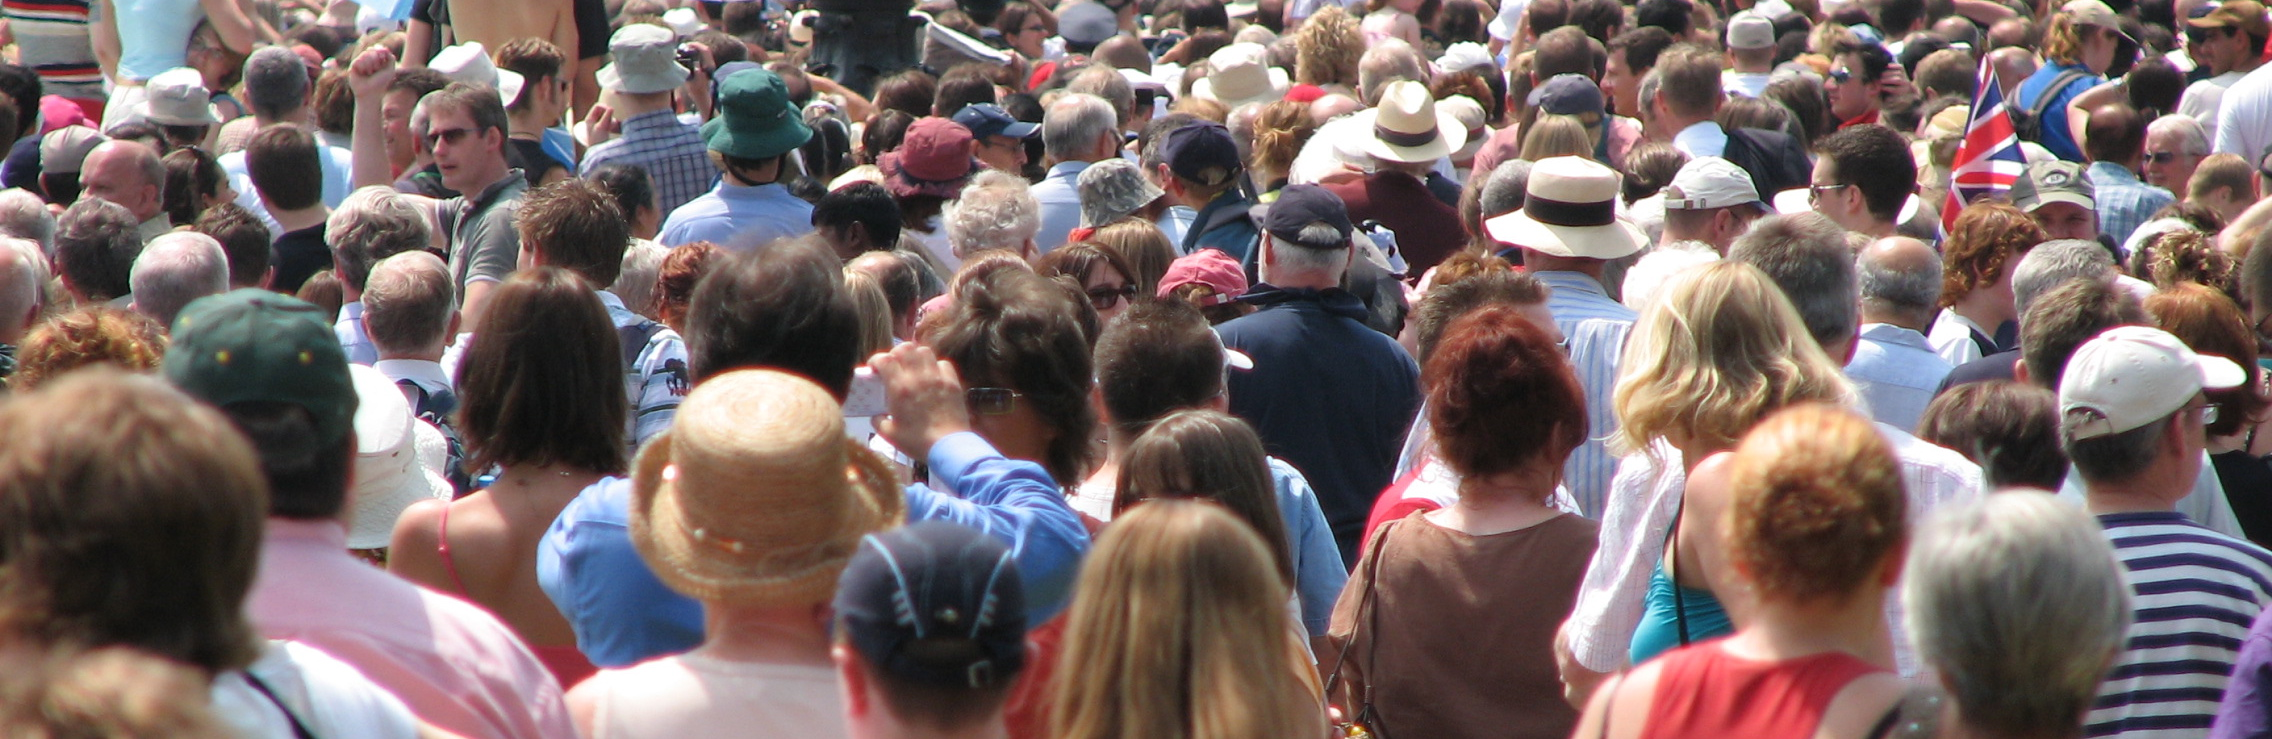person: (155, 288, 548, 717), (1580, 401, 1914, 737), (2035, 355, 2251, 721), (1393, 341, 1588, 737), (455, 266, 645, 659), (651, 410, 874, 739), (1903, 488, 2119, 730), (1233, 192, 1393, 517), (836, 518, 1036, 737), (903, 310, 1110, 489), (670, 72, 817, 262), (577, 36, 712, 221), (417, 107, 526, 299), (1793, 123, 1914, 224), (2074, 104, 2159, 240), (1030, 86, 1133, 170), (942, 102, 1045, 179), (71, 140, 168, 215), (2193, 5, 2271, 82), (2046, 4, 2125, 79), (1823, 43, 1886, 121), (2141, 117, 2203, 188)
